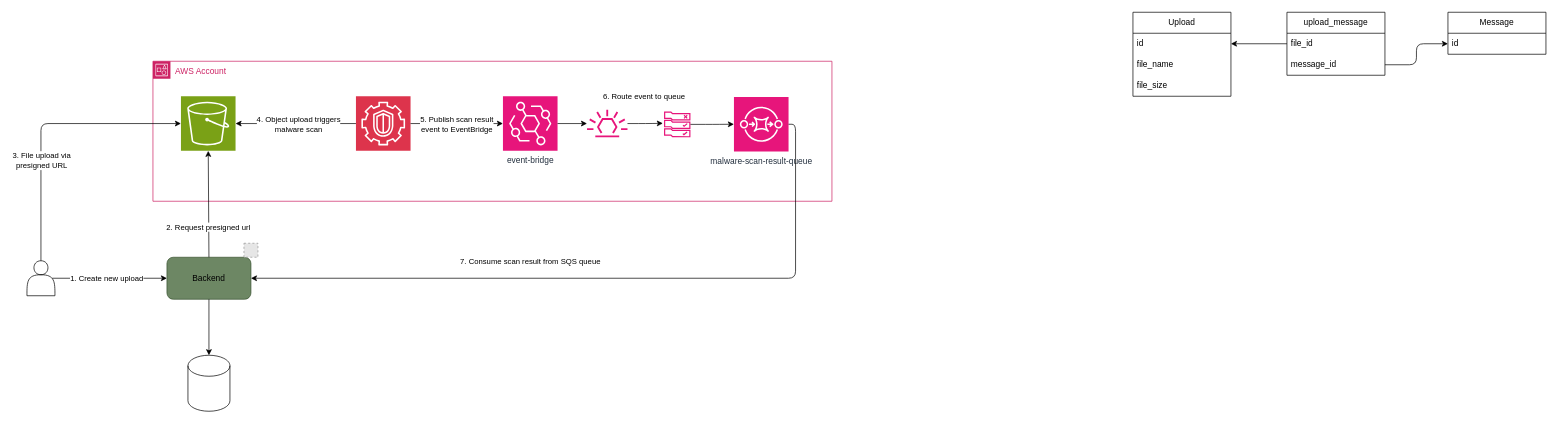
This 1558x424 diagram has some shape labels left out. Grey dashed boxes stand in for pictures. The shapes that lost their labels are listed below. From the top down, each one's centre as x and y in pixels, then its label:
At (x=208, y=123): "upload-bucket".
At (x=383, y=123): "guardduty-malware-scan".
At (x=208, y=383): "DB".
